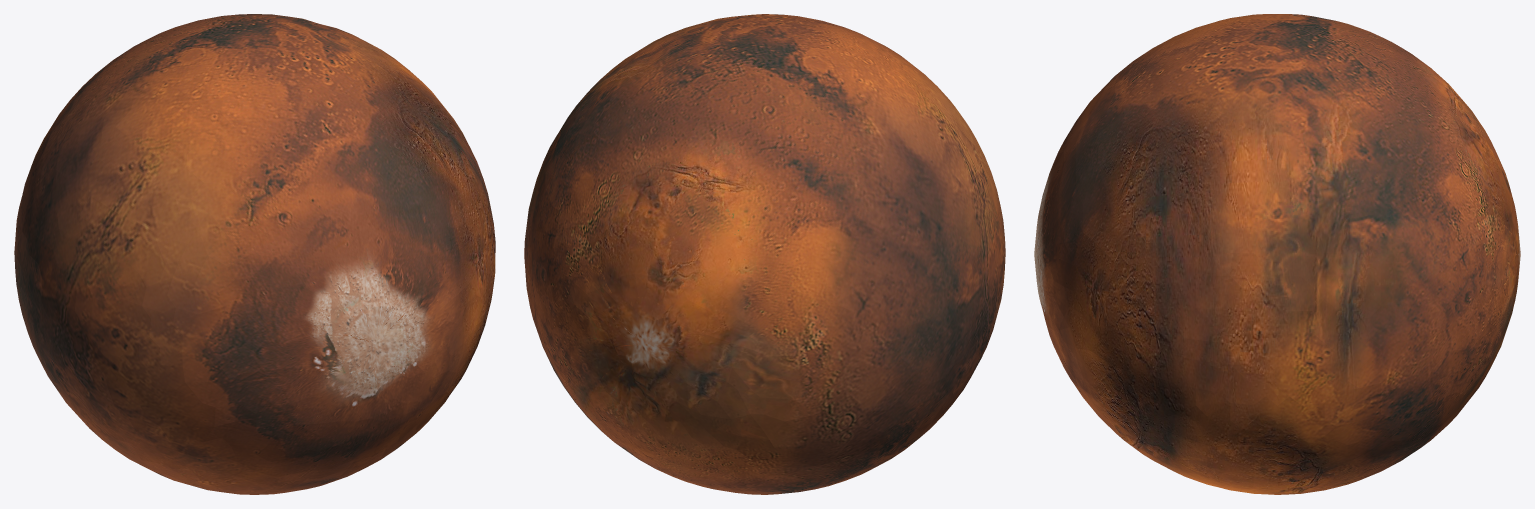
File: mars2.obj
The picture shows the model from 3 angles, left to right: view 1: azimuth 30°, elevation 25°; view 2: azimuth 150°, elevation 25°; view 3: azimuth 270°, elevation 25°; orthographic projection.
Size of the model in its own units: 942 by 942 by 953.
